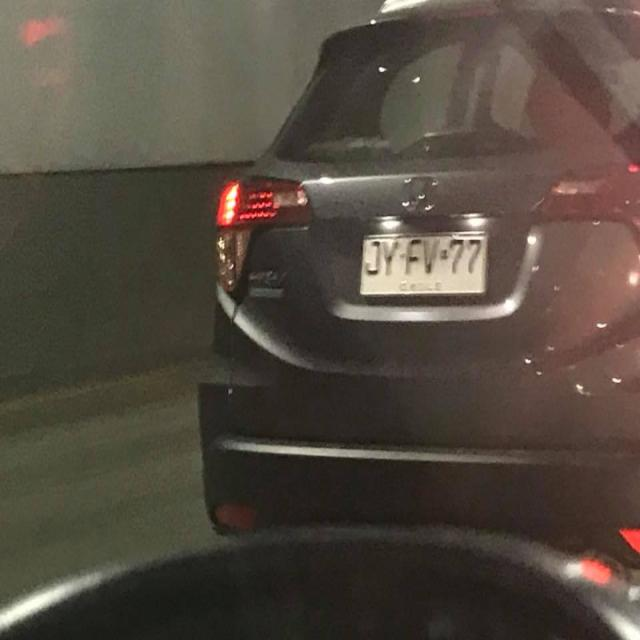patente: (359, 228, 489, 298)
